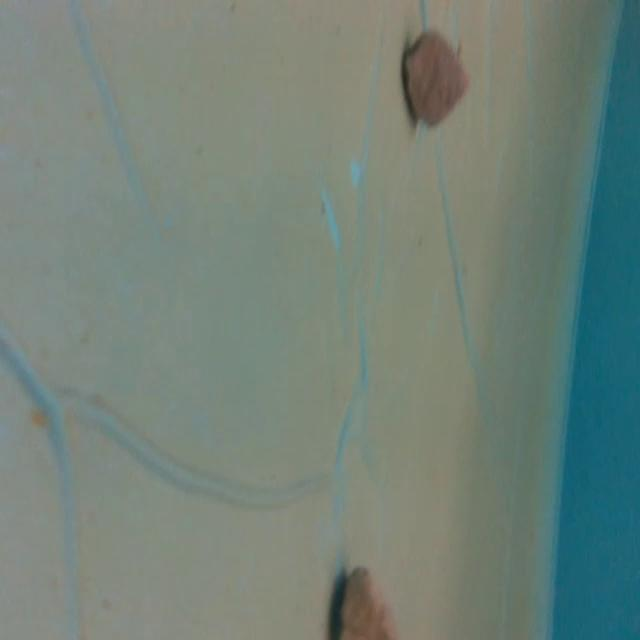rock: (390, 22, 472, 132)
